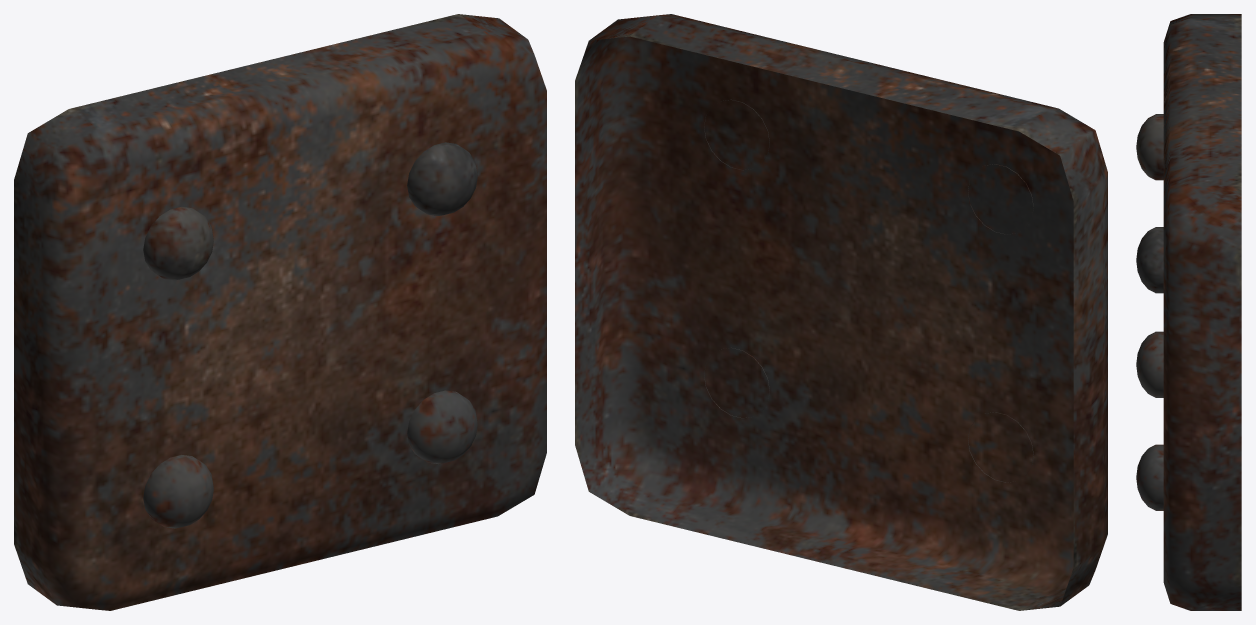
Rendered from SM_Prop_Square_Iron.fbx.
The picture shows the model from 3 angles, left to right: view 1: azimuth 30°, elevation 25°; view 2: azimuth 150°, elevation 25°; view 3: azimuth 270°, elevation 25°; orthographic projection. The views are drawn at different scales.
Parts seen in each view (by area): view 1: SM_Prop_Square_Iron_LOD0; view 2: SM_Prop_Square_Iron_LOD0; view 3: SM_Prop_Square_Iron_LOD0.
Boxes of the visible parts, x1,y1,x2,y2 form: SM_Prop_Square_Iron_LOD0: (14,14,546,610); SM_Prop_Square_Iron_LOD0: (575,14,1107,610); SM_Prop_Square_Iron_LOD0: (1136,14,1241,610).
Size of the model in its own units: 48.06 by 10.05 by 44.15.
Materials: 1 (1 with a texture image).
